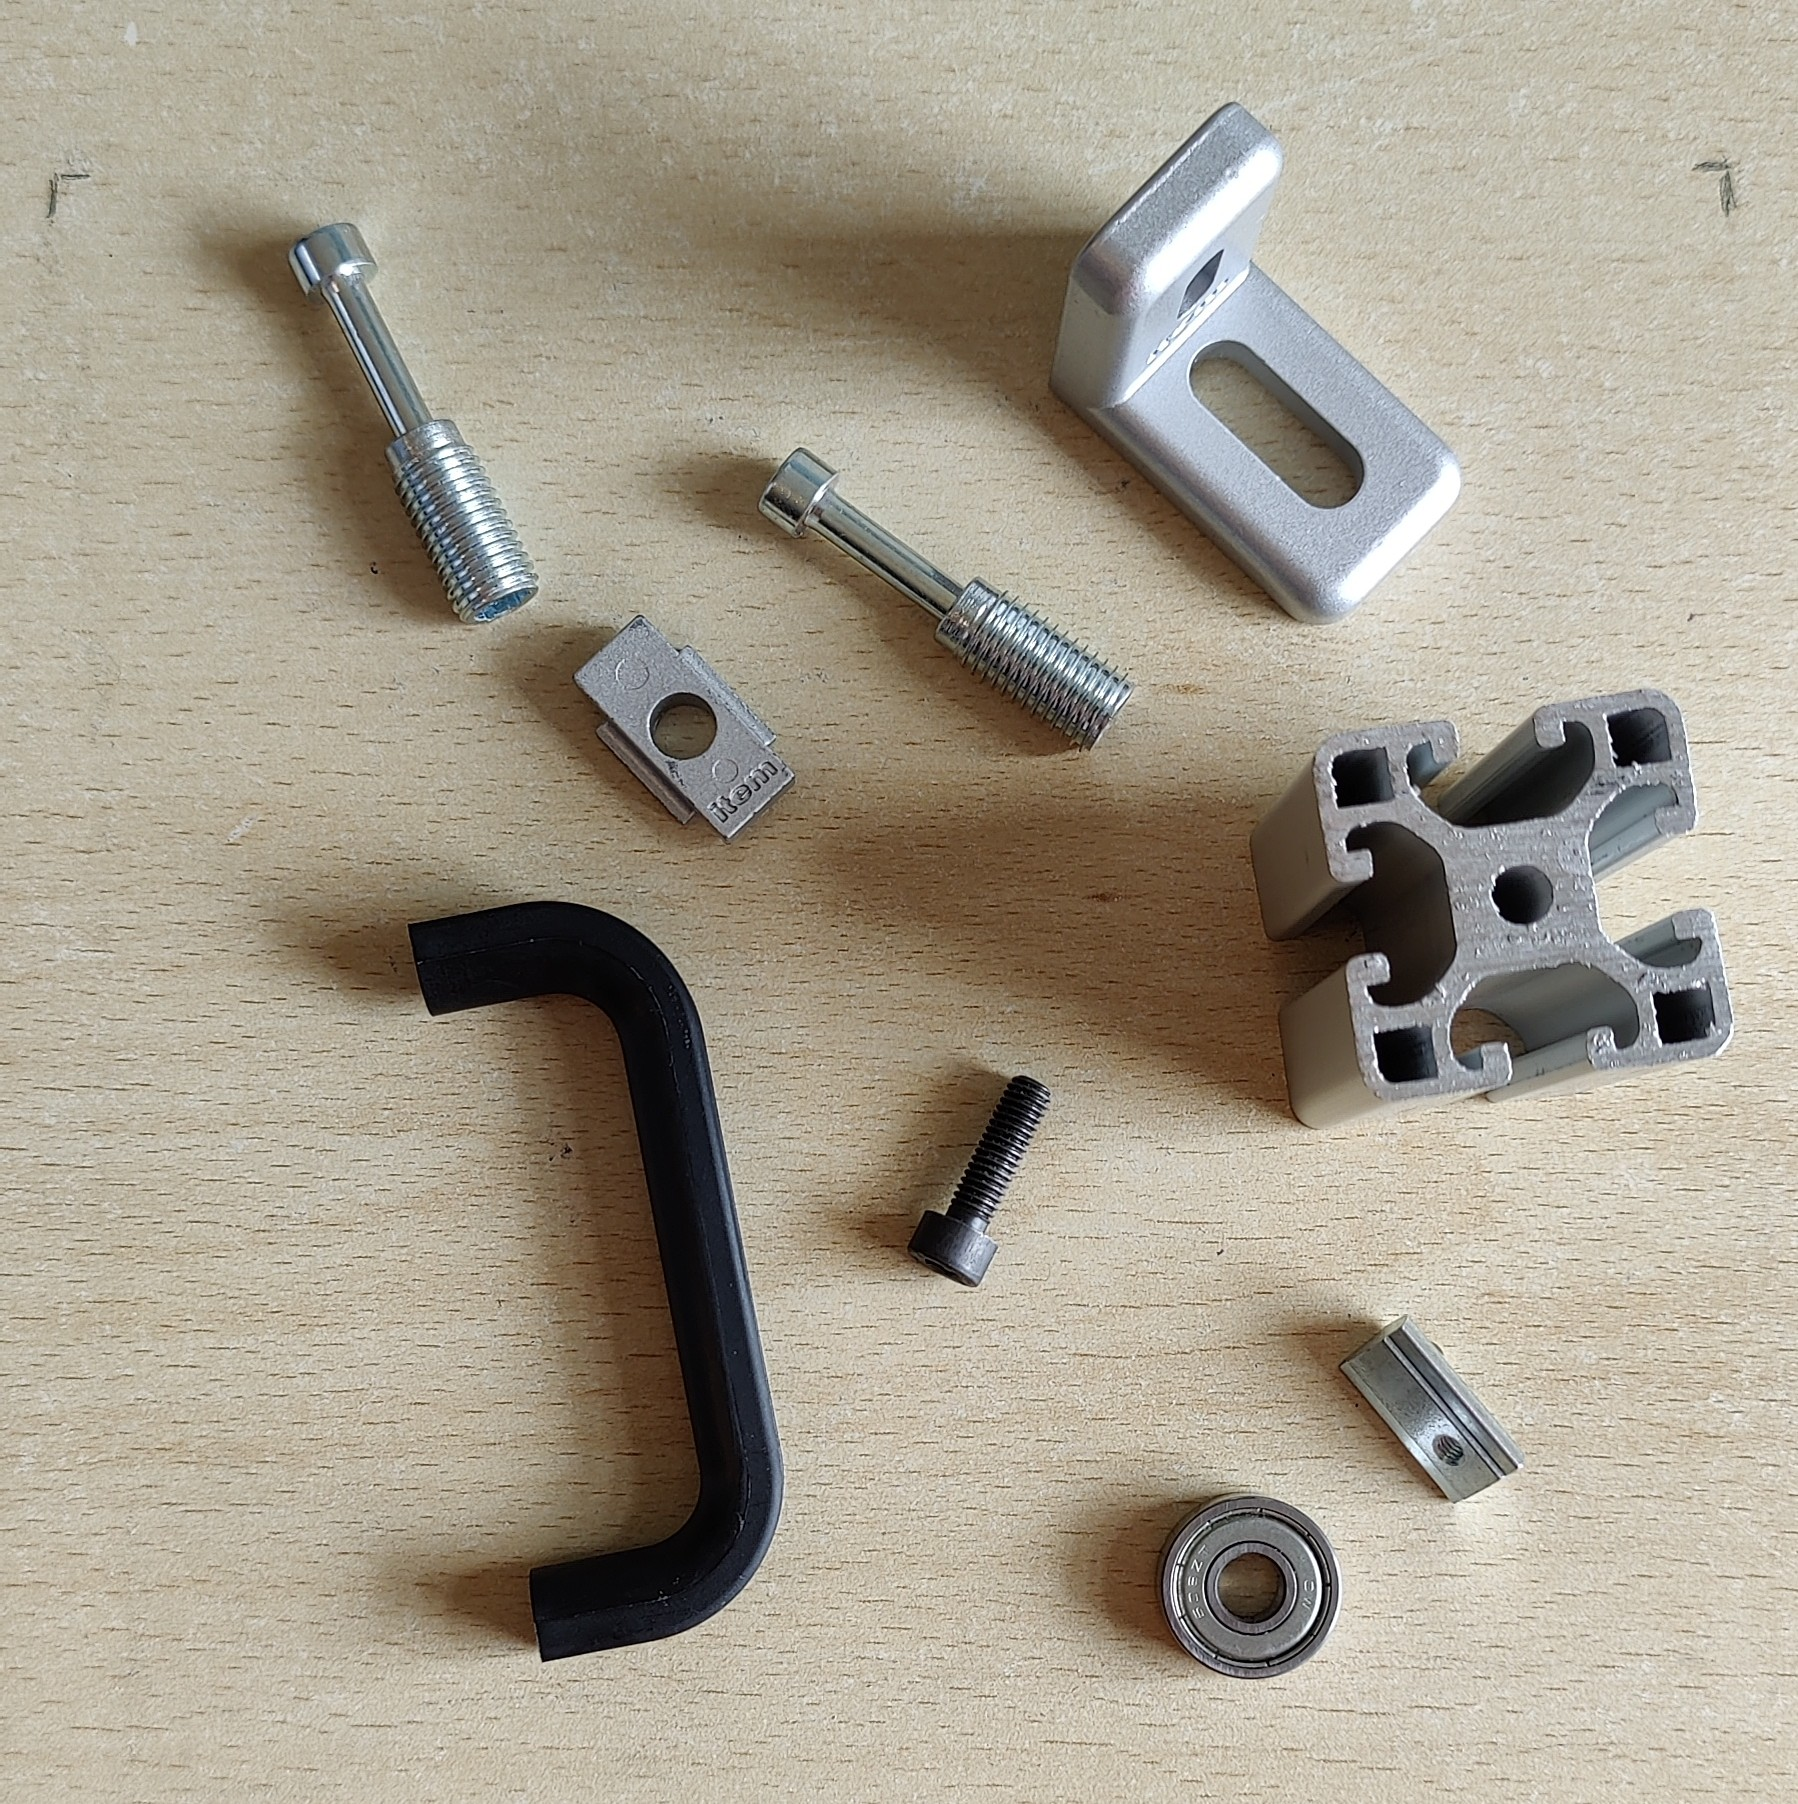Aluminium Extension: (1245, 685, 1735, 1132)
Ball Bearing: (1151, 1490, 1344, 1684)
Multiwinkel: (1046, 100, 1465, 629)
Pull Handle: (403, 895, 789, 1666)
Shoulder Socket Head Cap Screw: (756, 446, 1141, 756), (282, 217, 543, 629)
Socket Head Cap Screw: (902, 1072, 1055, 1289)
T Nut Square: (571, 611, 799, 849)
T Spring Nut: (1337, 1309, 1528, 1508)
